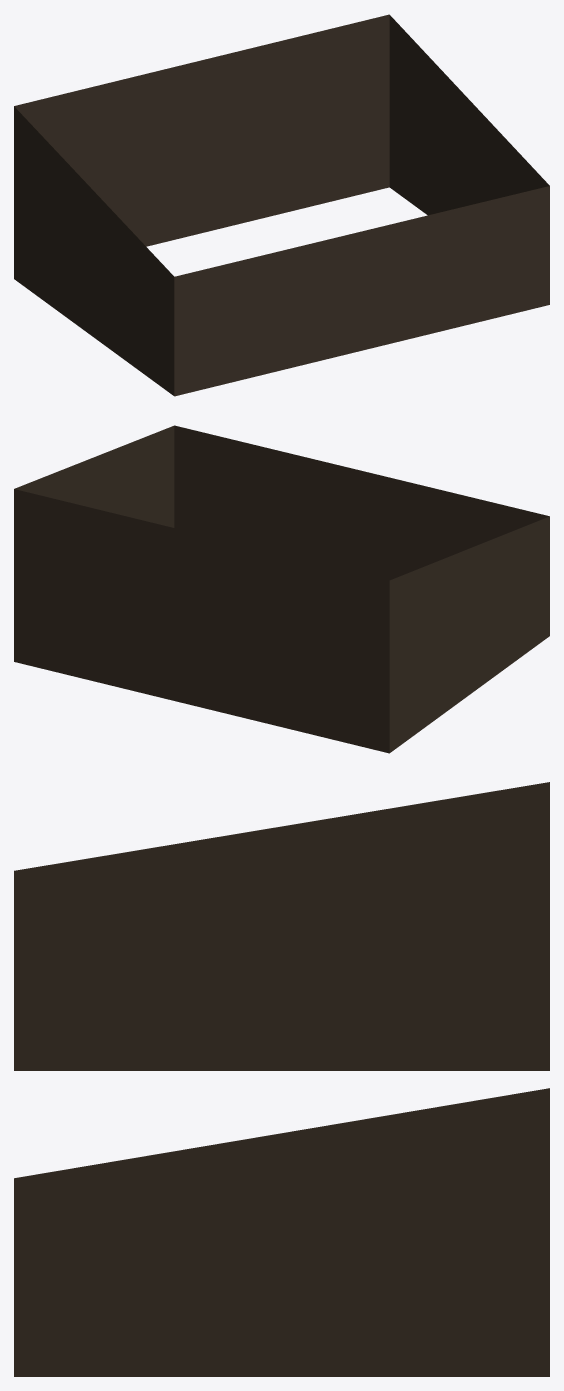
File: earth_sides.dae
The picture shows the model from 3 angles, top to bottom: view 1: azimuth 30°, elevation 25°; view 2: azimuth 150°, elevation 25°; view 3: azimuth 270°, elevation 25°; orthographic projection. The views are drawn at different scales.
Visible parts, largest first — view 1: earth_sides_00_a1; view 2: earth_sides_00_a1; view 3: earth_sides_00_a1.
Boxes of the visible parts, x1,y1,x2,y2 form: earth_sides_00_a1: (14, 14, 549, 396); earth_sides_00_a1: (14, 425, 549, 753); earth_sides_00_a1: (14, 782, 549, 1376).
Bounding box in the file's own units: 50 × 37 × 22.
